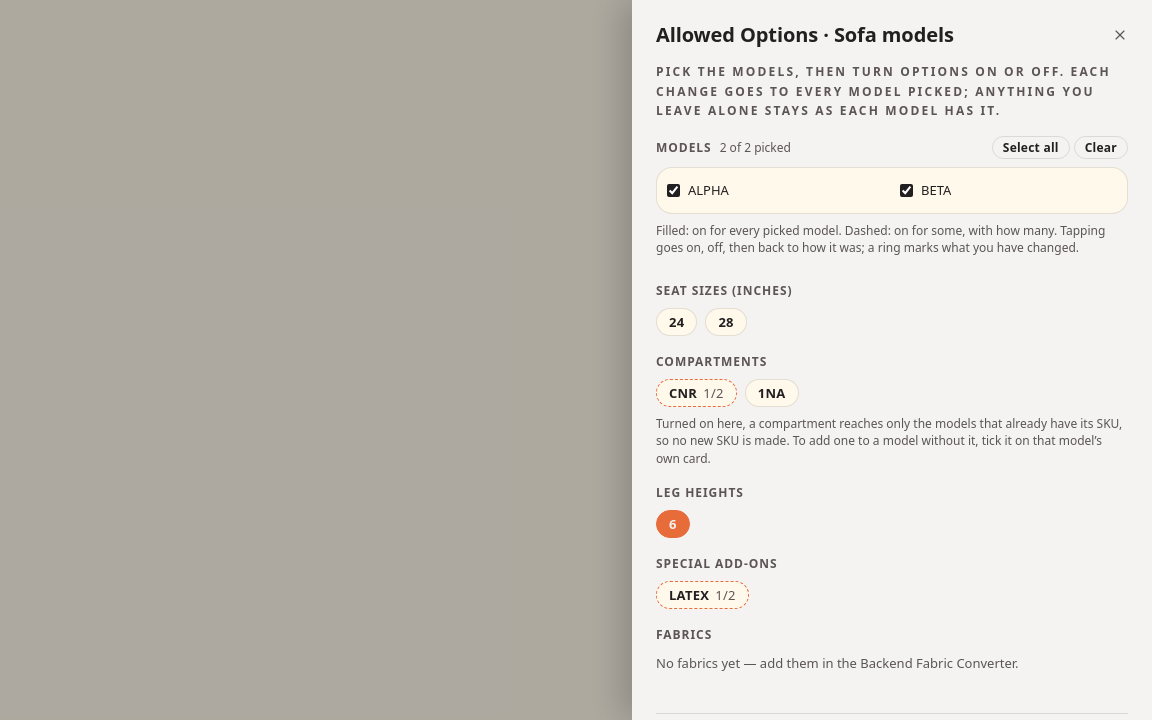
Scenario: Edit several models › names a Model that could not be saved and keeps the edit to try again
Click the button "LATEX1/2".
click(702, 596)  # box top-left (656, 582), bottom-right (749, 610)
(page scrolled)
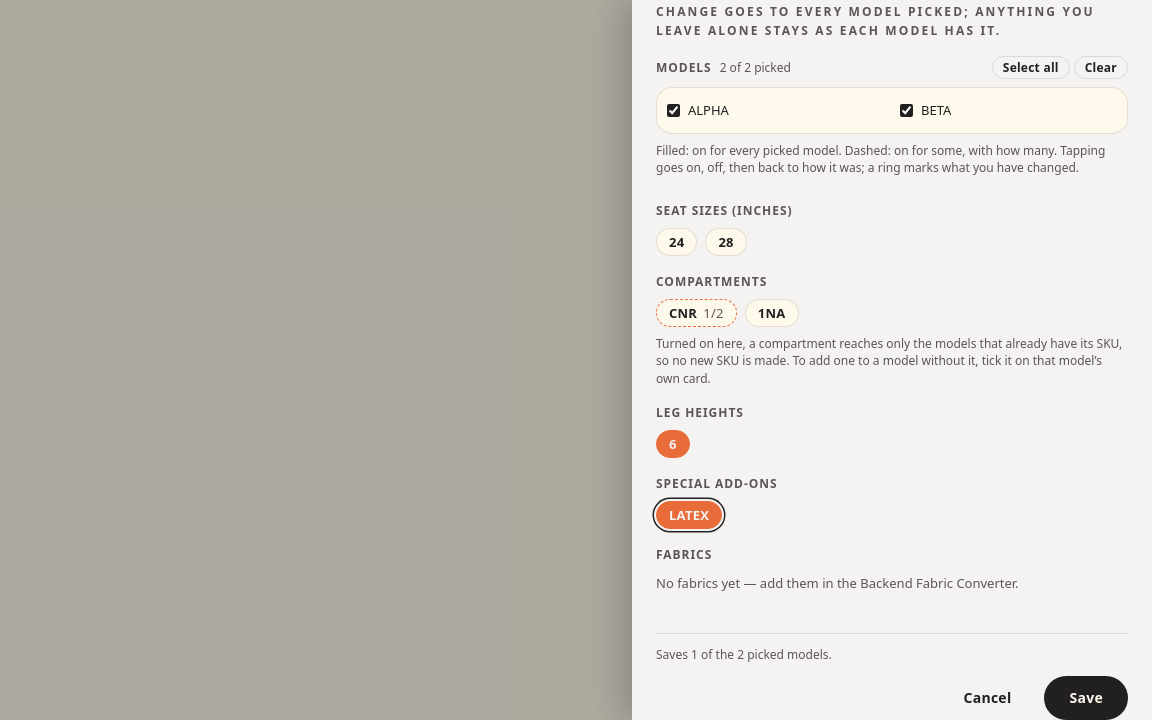
Click the button "Save".
click(1086, 698)  # box top-left (1044, 676), bottom-right (1128, 719)
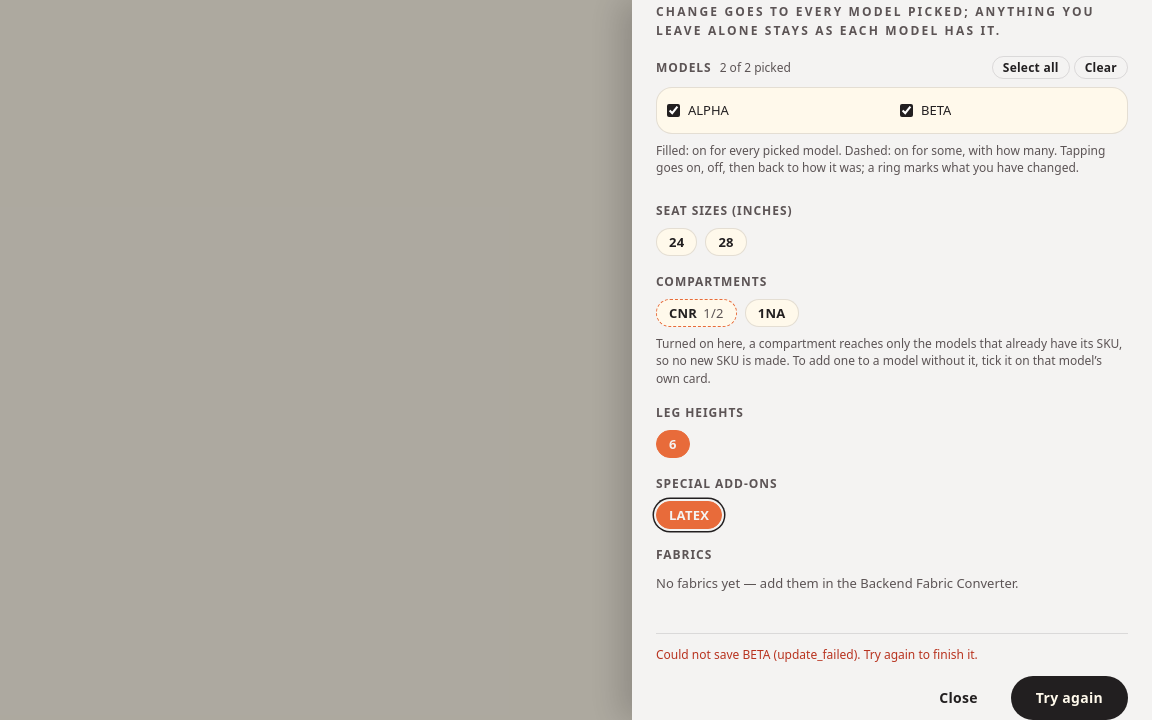
Expected: the button "Try again" is enabled, top-left (1011, 676), bottom-right (1128, 719)
Expected: the text "Could not save BETA (update_failed). Try again to finish it." is shown, top-left (656, 646), bottom-right (978, 663)
